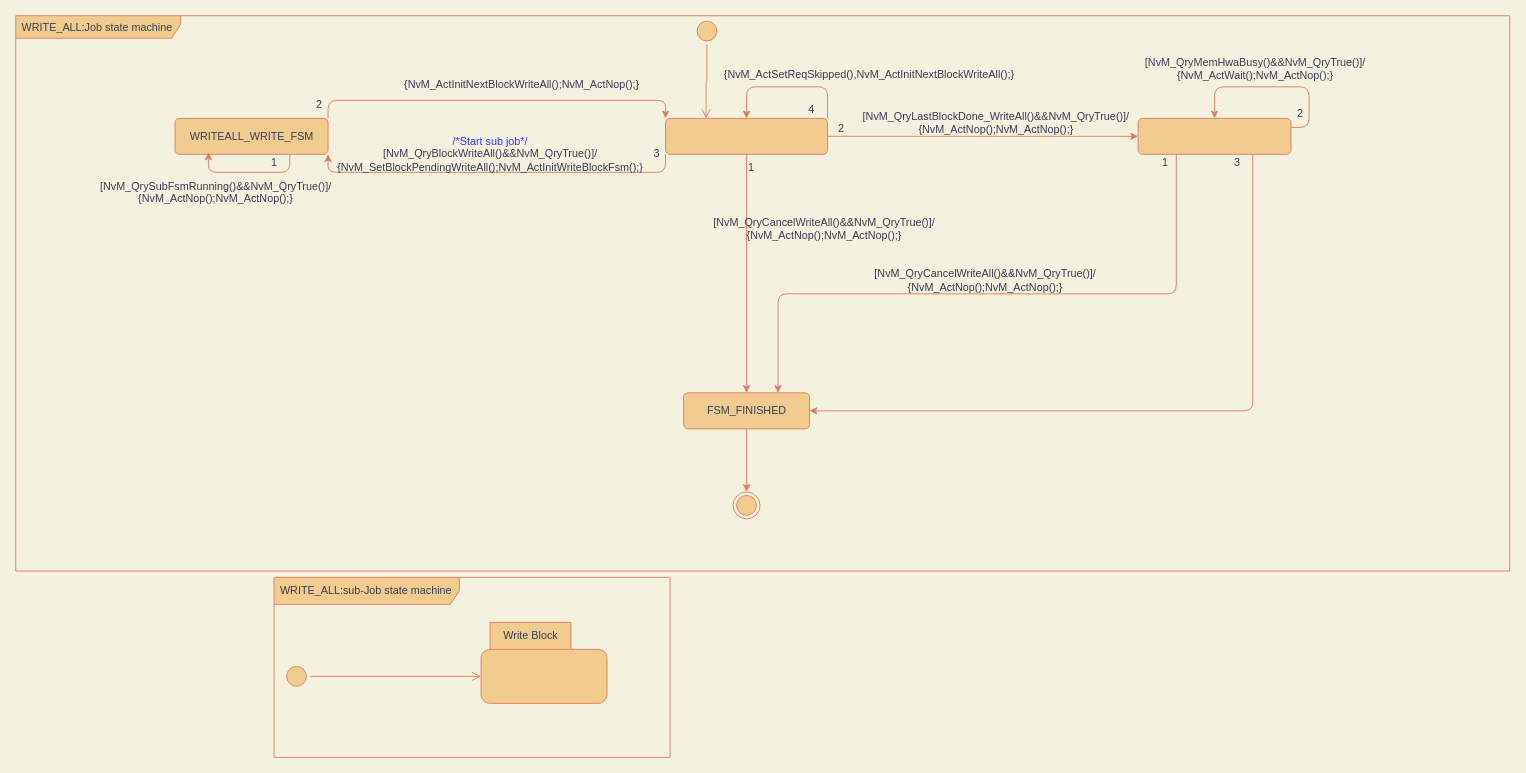
Image size: 1526x773. Some labels were removed from this diagram. The box of each missing label's shape, as (x1, y1, x2, y2) in pixels:
WRITEALL_PROC_BLOCK: (665, 117, 828, 154)
WRITEALL_WAIT_MEMHWA: (1137, 117, 1291, 154)
